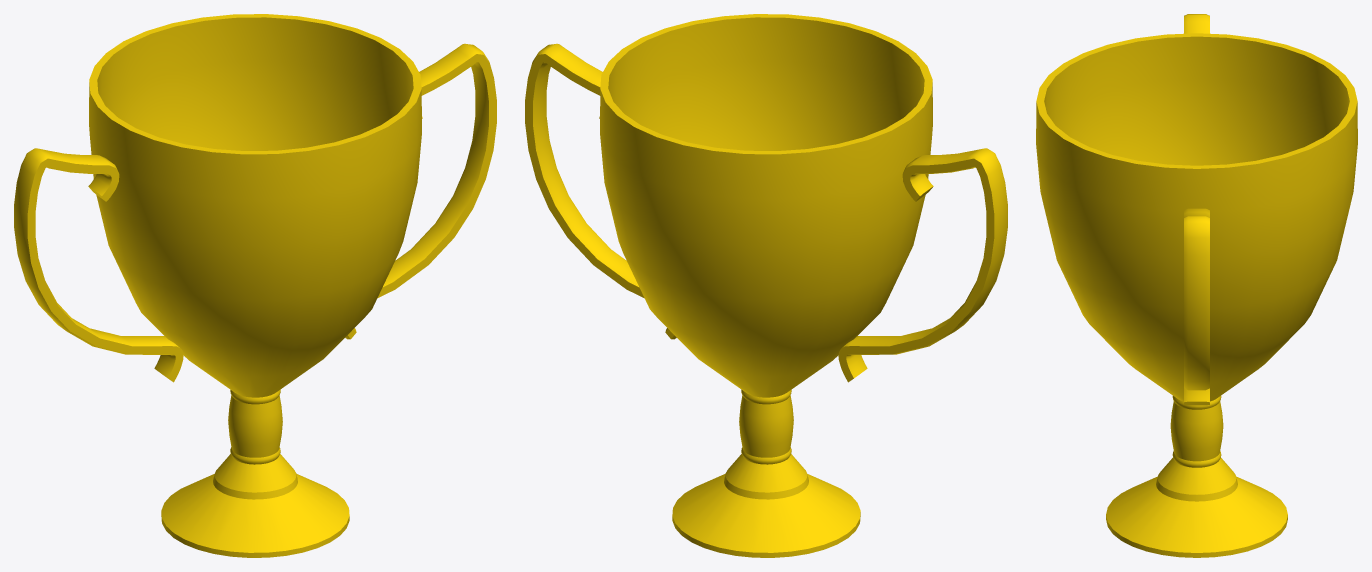
The model's file is trophy.glb.
The picture shows the model from 3 angles, left to right: view 1: azimuth 30°, elevation 25°; view 2: azimuth 150°, elevation 25°; view 3: azimuth 270°, elevation 25°; orthographic projection. The views are drawn at different scales.
Visible parts, largest first — view 1: trophy_0; view 2: trophy_0; view 3: trophy_0.
Part boxes in pixels (x1,y1,x2,y2): trophy_0: (14,14,496,557); trophy_0: (525,14,1007,557); trophy_0: (1036,14,1357,557).
Bounding box in the file's own units: 49.05 × 43.03 × 30.
